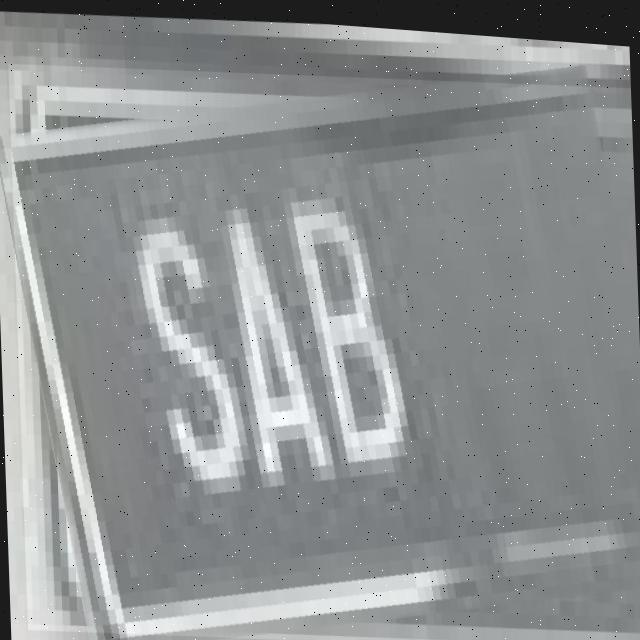LicensePlate: (8, 41, 640, 640)
